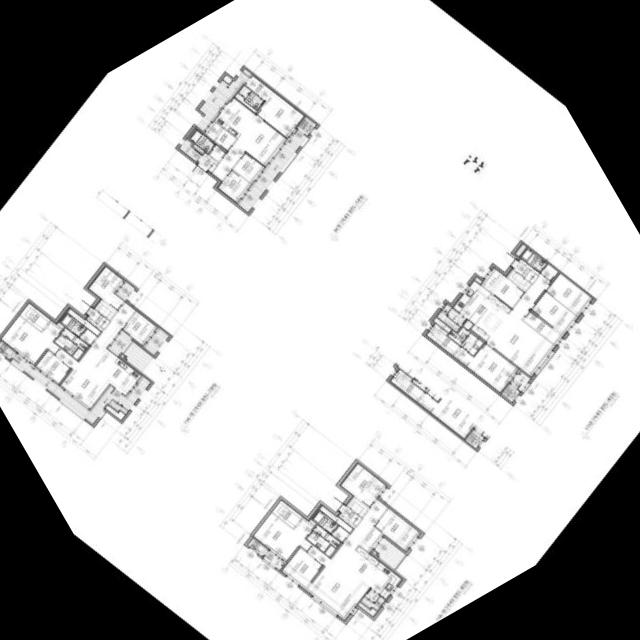background: (0, 0, 640, 640)
space_balconi: (11, 353, 150, 424), (239, 128, 307, 212), (196, 68, 250, 130), (124, 341, 153, 372), (376, 538, 405, 569), (437, 304, 466, 331), (144, 328, 169, 355), (360, 588, 385, 610), (179, 138, 201, 160), (110, 332, 131, 354), (510, 370, 530, 391), (263, 550, 284, 569), (117, 281, 135, 300)
space_bedroom: (453, 343, 518, 392), (1, 315, 62, 364), (253, 512, 314, 561), (256, 92, 303, 137), (340, 462, 386, 507), (546, 273, 592, 316), (374, 507, 420, 550), (532, 292, 577, 334), (481, 267, 524, 307), (282, 547, 322, 588), (88, 265, 124, 310), (122, 310, 157, 345), (35, 350, 70, 384), (218, 169, 251, 202), (233, 152, 264, 183)
space_dressroom: (426, 323, 460, 355), (272, 499, 302, 528), (20, 302, 50, 331), (245, 75, 273, 100)
space_front: (513, 258, 539, 284), (86, 308, 110, 330), (338, 505, 362, 527), (198, 152, 218, 172)
space_kitchen: (453, 280, 511, 336), (343, 546, 401, 598), (91, 349, 141, 395), (214, 98, 256, 139)
space_living_room: (306, 498, 388, 619), (54, 301, 136, 410), (486, 273, 554, 376), (211, 115, 286, 180)
space_other: (523, 311, 562, 345), (204, 121, 236, 150), (319, 505, 352, 532), (67, 308, 100, 335), (358, 526, 383, 552), (507, 269, 531, 291), (94, 299, 116, 319), (347, 496, 368, 516), (235, 93, 256, 112), (357, 602, 377, 617), (105, 405, 125, 420), (541, 263, 558, 280), (332, 525, 349, 542), (80, 328, 97, 345), (433, 316, 451, 332), (471, 324, 489, 340), (209, 145, 226, 161), (515, 243, 526, 256), (72, 348, 83, 359), (193, 144, 204, 153), (222, 74, 232, 83), (463, 320, 473, 329), (474, 276, 482, 283), (308, 518, 316, 525), (56, 321, 64, 328), (372, 550, 376, 554), (121, 354, 124, 357)
space_outdoor_room: (247, 537, 267, 556), (297, 116, 316, 135), (501, 383, 520, 402), (0, 340, 15, 359)
space_toilet: (306, 524, 340, 556), (448, 326, 483, 355), (54, 327, 88, 354), (238, 85, 264, 109), (520, 247, 546, 271), (189, 129, 215, 152), (312, 510, 337, 533), (60, 313, 85, 336)
